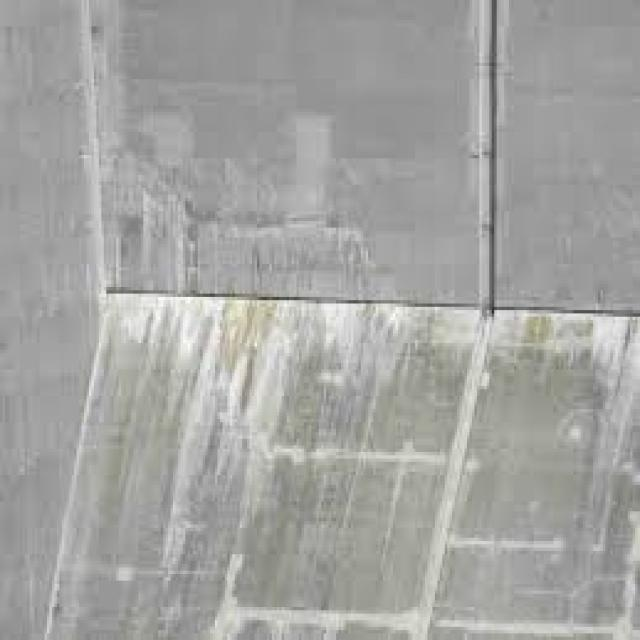stain_mould: (72, 7, 639, 629)
